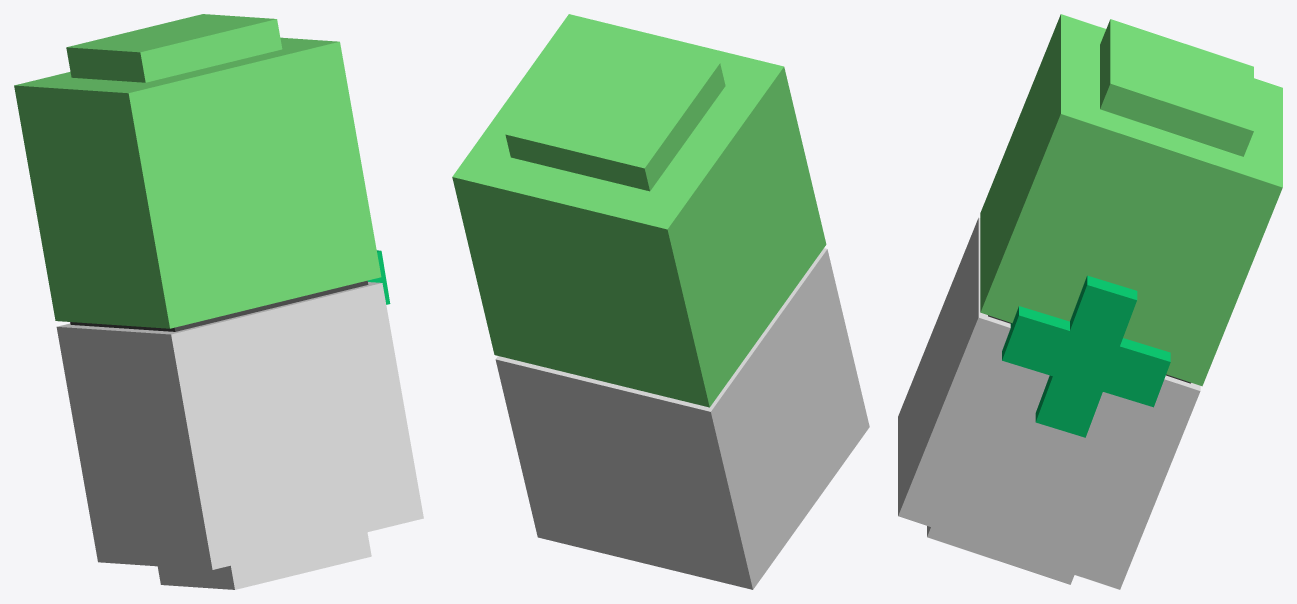
Rendered from heel 02.fbx.
The picture shows the model from 3 angles, left to right: view 1: azimuth 30°, elevation 25°; view 2: azimuth 150°, elevation 25°; view 3: azimuth 270°, elevation 25°; orthographic projection. The views are drawn at different scales.
Parts seen in each view (by area): view 1: Cube.003; view 2: Cube.003; view 3: Cube.003.
Boxes of the visible parts, x1,y1,x2,y2 form: Cube.003: (14, 14, 423, 589); Cube.003: (452, 14, 869, 589); Cube.003: (898, 14, 1282, 589).
Bounding box in the file's own units: 158 × 338 × 235.
